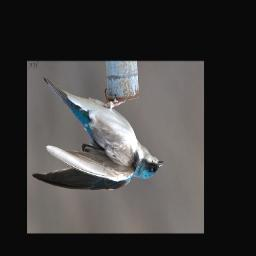Swallow: (31, 75, 165, 194)
